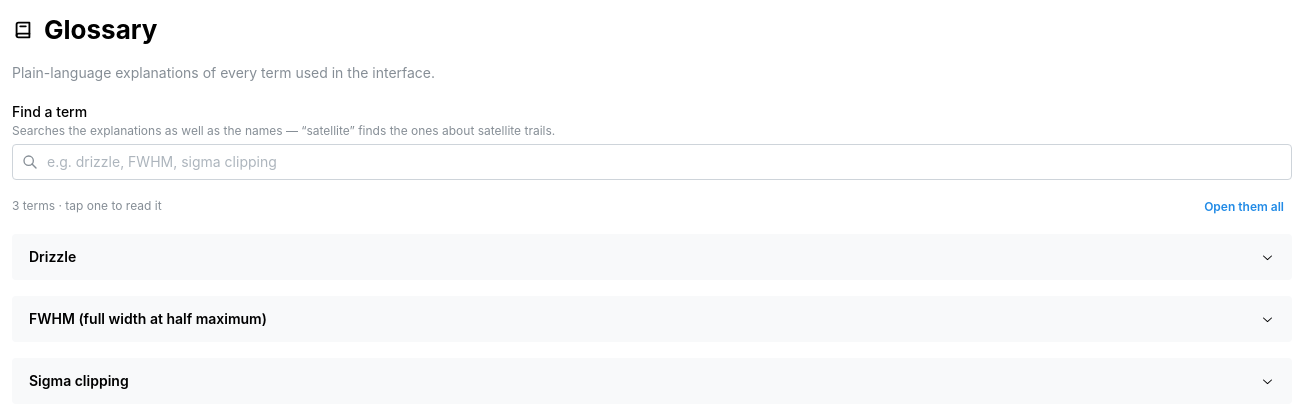
Scenario: Glossary page › says so, helpfully, when a search matches nothing
Expected: the text "Drizzle" is shown, [29,248,76,265]
In the field with test id "glossary-search": (652, 162) [12,144,1292,180], type "narrowband"
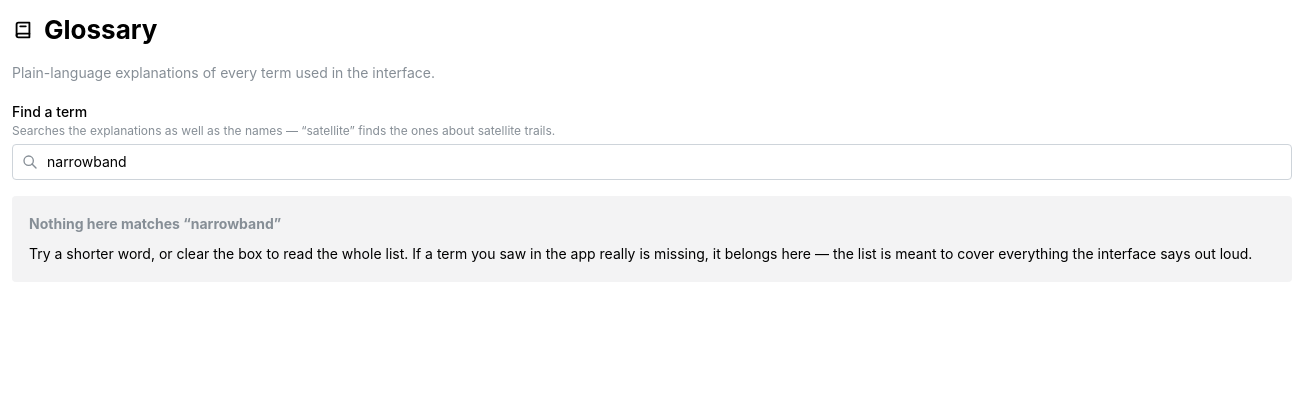
Now the text "Nothing here matches “narrowband”" is shown, box [29,213,281,234]
Now the button "Drizzle" is gone
